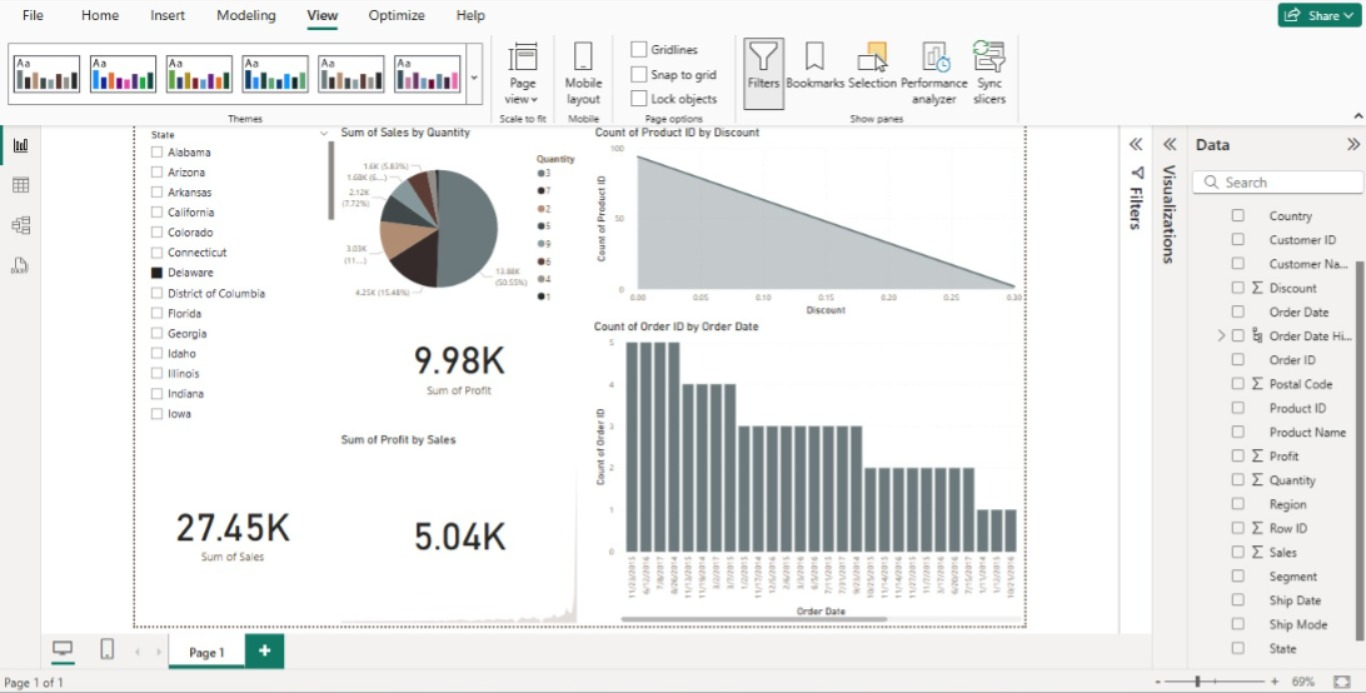

The page's visual inventory and layout, read from the dashboard file:
{"tool":"powerbi","page":{"name":"Page 1","canvas":[1280,720],"ordinal":0},"visuals":[{"type":"slicer","fields":{"Values":["Superstore.State"]},"box":[10.1,0,280.5,430],"z":0},{"type":"card","fields":{"Values":["Sum(Superstore.Sales)"]},"box":[0,441.8,280.5,278.8],"z":1},{"type":"card","fields":{"Values":["Sum(Superstore.Profit)"]},"box":[290.6,255.3,349.4,174.7],"z":2},{"type":"pieChart","fields":{"Category":["Superstore.Quantity"],"Y":["Sum(Superstore.Sales)"]},"box":[290.6,0,364.5,278.8],"z":3},{"type":"kpi","fields":{"Indicator":["Sum(Superstore.Profit)"],"TrendLine":["Superstore.Sales"]},"box":[290.6,441.8,349.4,278.8],"z":4},{"type":"lineClusteredColumnComboChart","fields":{"Category":["Superstore.Order Date Hierarchy.Order Date"],"Y":["CountNonNull(Superstore.Order ID)"]},"box":[655.1,278.8,624.9,440.1],"z":5},{"type":"areaChart","fields":{"Category":["Superstore.Discount"],"Y":["CountNonNull(Superstore.Product ID)"]},"box":[656,0,624,279],"z":6}]}

Visuals, with their boxes on the page's 1280x720 design canvas (x1, y1, x2, y2). These are canvas units, not pixel positions in the 1366x693 screenshot, which may show the page scaled, cropped or inside an application window:
slicer - Superstore.State: rect(10, 0, 291, 430)
card - Sum(Superstore.Sales): rect(0, 442, 280, 721)
card - Sum(Superstore.Profit): rect(291, 255, 640, 430)
pieChart - Superstore.Quantity x Sum(Superstore.Sales): rect(291, 0, 655, 279)
kpi - Sum(Superstore.Profit) x Superstore.Sales: rect(291, 442, 640, 721)
lineClusteredColumnComboChart - Superstore.Order Date Hierarchy.Order Date x CountNonNull(Superstore.Order ID): rect(655, 279, 1280, 719)
areaChart - Superstore.Discount x CountNonNull(Superstore.Product ID): rect(656, 0, 1280, 279)
